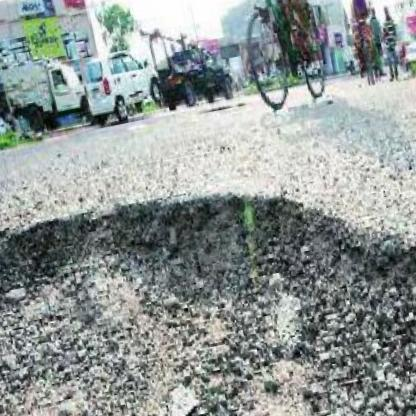pothole: (0, 122, 416, 416)
